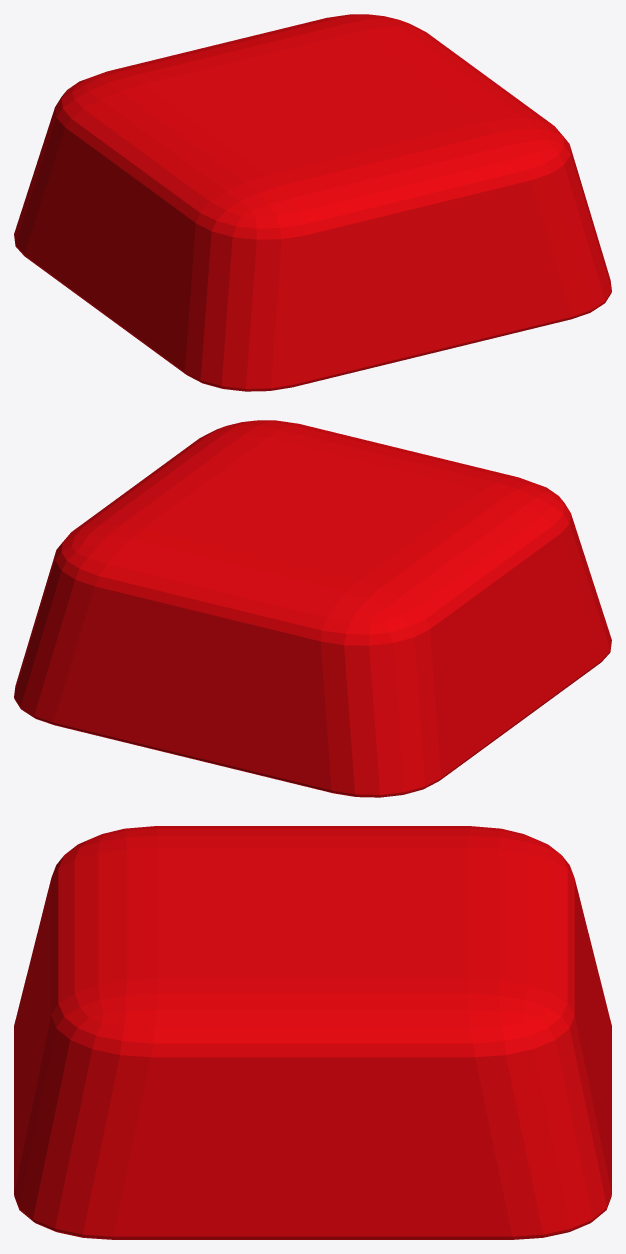
File: 3dbutton.glb
The picture shows the model from 3 angles, top to bottom: view 1: azimuth 30°, elevation 25°; view 2: azimuth 150°, elevation 25°; view 3: azimuth 270°, elevation 25°; orthographic projection. The views are drawn at different scales.
Visible parts, largest first — view 1: Cube; view 2: Cube; view 3: Cube.
Boxes of the visible parts, x1,y1,x2,y2 form: Cube: (14, 14, 611, 391); Cube: (14, 420, 611, 797); Cube: (14, 826, 611, 1239).
Bounding box in the file's own units: 0.1827 × 0.0692 × 0.1827.
